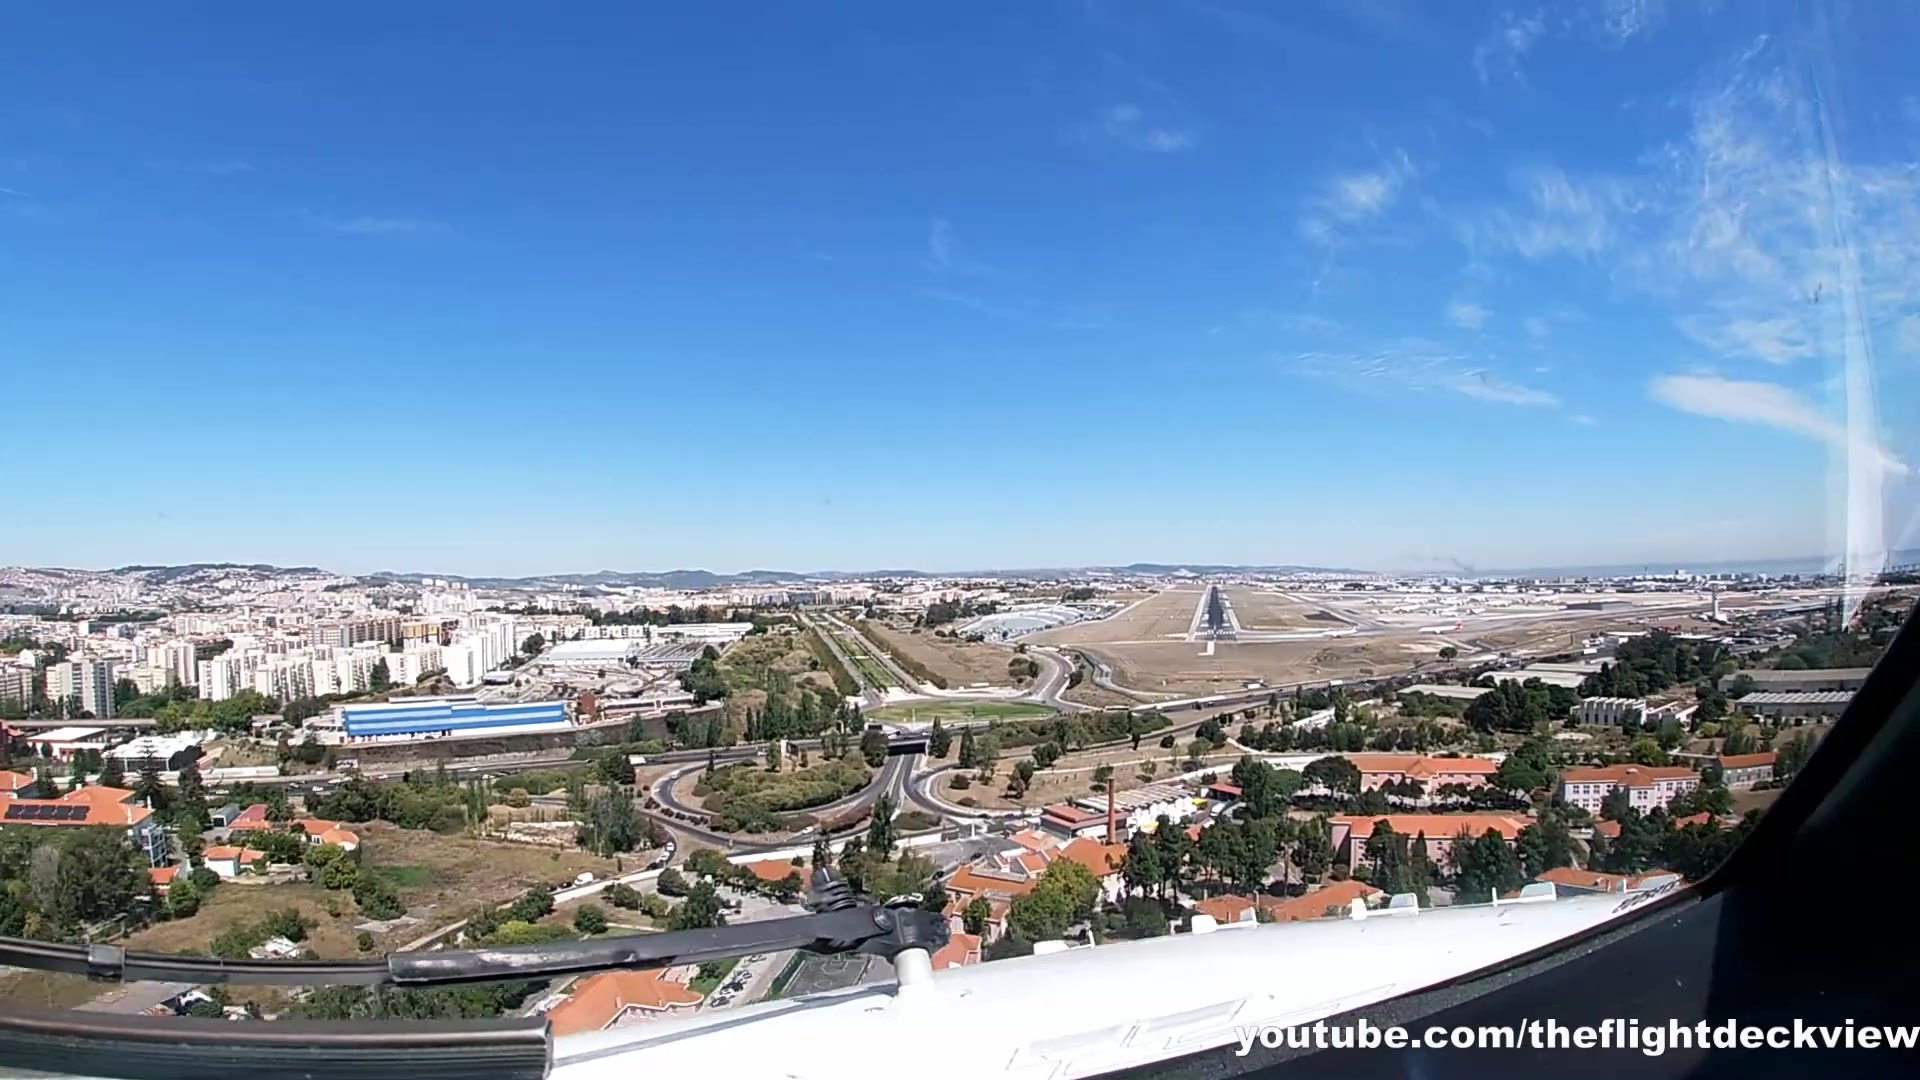entrance: (1193, 628, 1236, 636)
runway: (1184, 582, 1244, 645)
